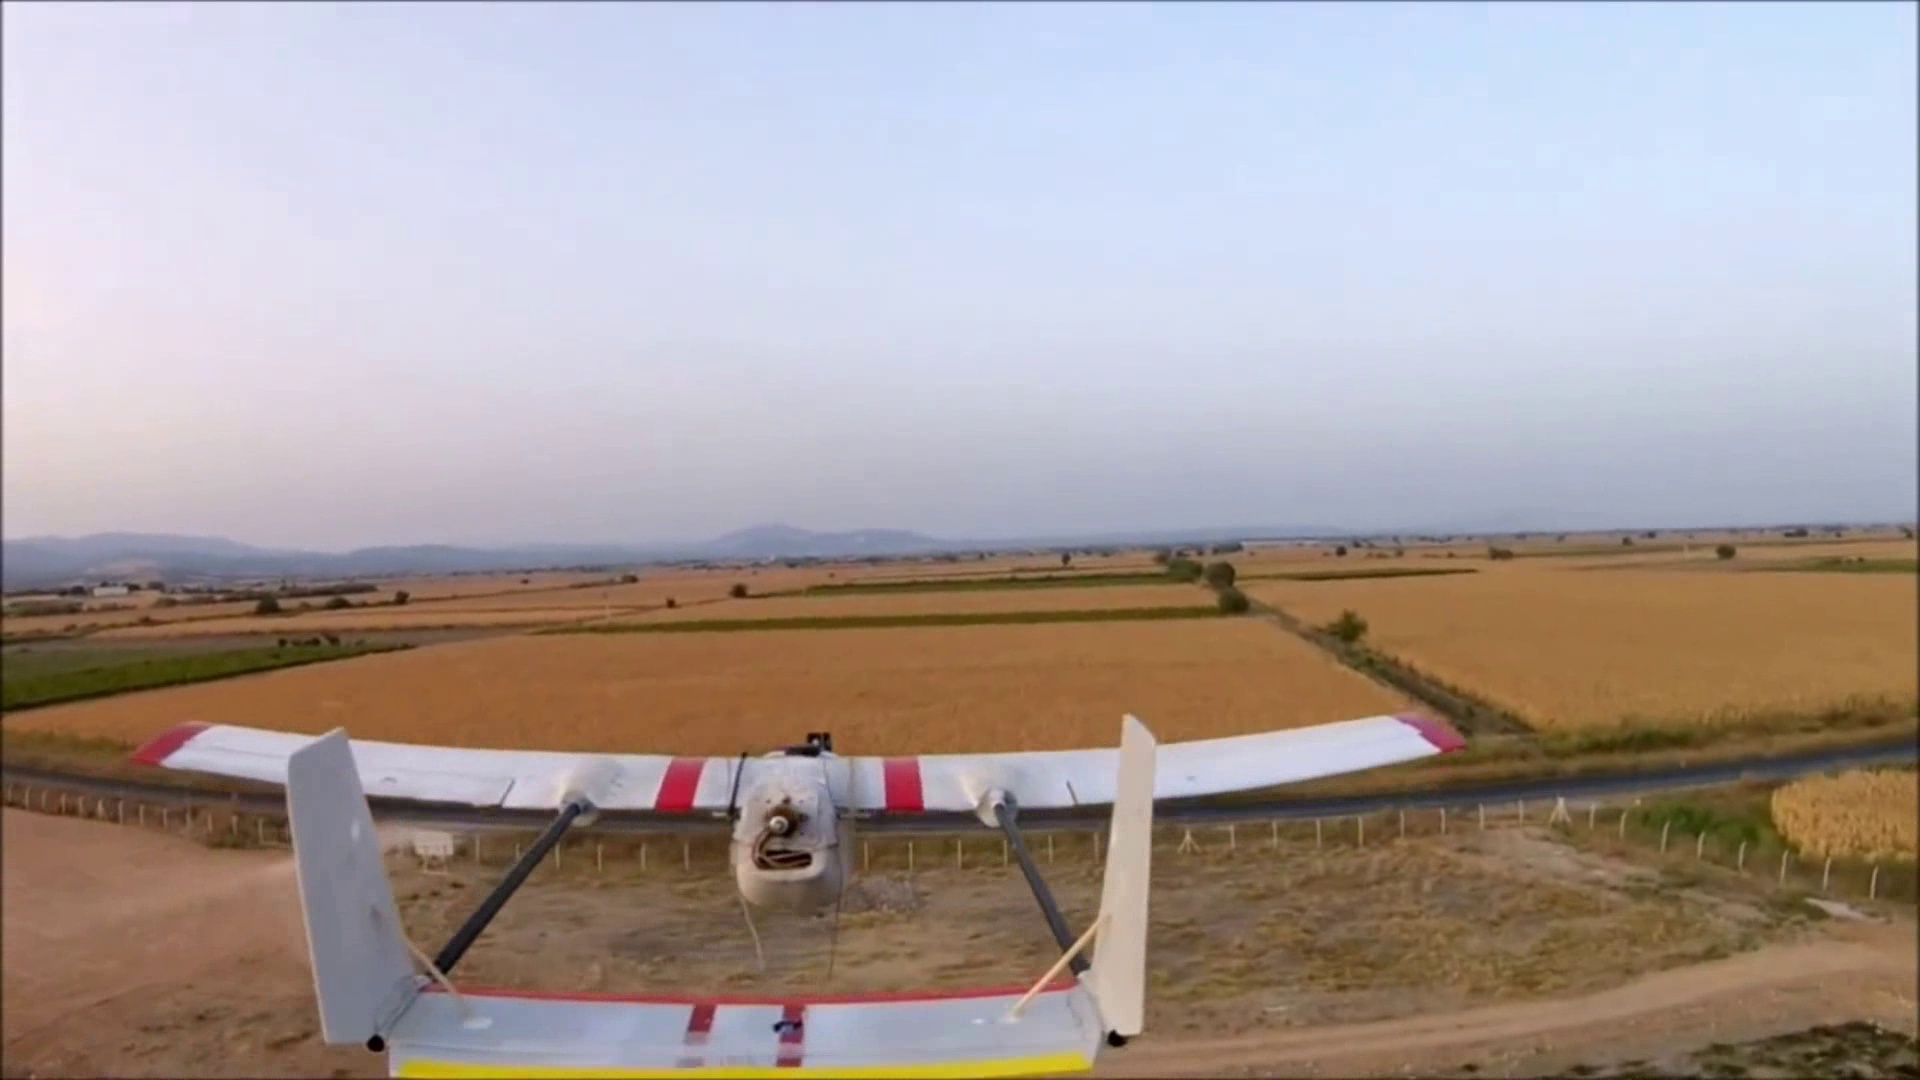airplane: (115, 712, 1456, 1065)
